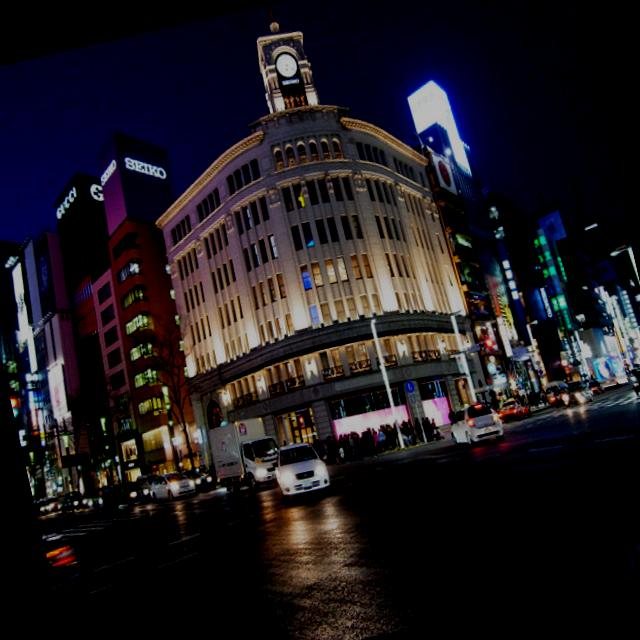Vehicle: (204, 414, 286, 498), (41, 526, 95, 620), (268, 438, 334, 507), (447, 398, 508, 452), (146, 467, 196, 499), (106, 479, 152, 512), (558, 378, 595, 408), (495, 395, 532, 424), (183, 464, 214, 494), (543, 378, 570, 406), (58, 491, 88, 514), (134, 472, 150, 490), (92, 496, 104, 504)
